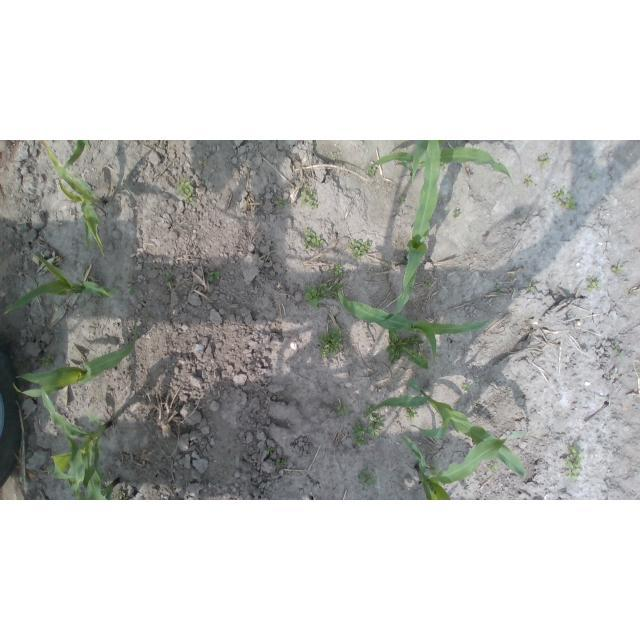Maize: (366, 380, 526, 478), (336, 289, 492, 362), (385, 140, 442, 321), (402, 432, 540, 500), (41, 387, 112, 500), (13, 333, 136, 398), (40, 140, 106, 256), (6, 252, 113, 313), (369, 147, 511, 178), (411, 140, 446, 181), (67, 476, 121, 500), (63, 141, 90, 176)
Weeds: (388, 329, 429, 370), (303, 280, 343, 308), (562, 446, 584, 483), (318, 328, 344, 359), (552, 188, 576, 210), (176, 179, 197, 204), (348, 239, 372, 260), (304, 228, 327, 249), (352, 420, 369, 447), (302, 184, 319, 210), (360, 465, 377, 491), (367, 417, 385, 437), (364, 404, 381, 421), (587, 276, 600, 293), (328, 264, 344, 277), (335, 404, 349, 417), (107, 286, 121, 298), (207, 272, 222, 283), (275, 197, 288, 209), (612, 264, 625, 276), (42, 355, 54, 368), (408, 407, 417, 421), (430, 463, 439, 475), (276, 459, 289, 467), (495, 284, 503, 297), (368, 166, 377, 176), (115, 492, 126, 500), (424, 280, 433, 289), (397, 196, 406, 205), (524, 177, 533, 186), (528, 284, 537, 292), (461, 385, 471, 392), (128, 285, 136, 293), (165, 273, 173, 281), (515, 209, 522, 218), (628, 291, 636, 298), (542, 156, 549, 164), (592, 170, 597, 181), (440, 162, 448, 168), (203, 176, 209, 183), (267, 445, 272, 453), (488, 466, 496, 471), (615, 347, 620, 355), (453, 211, 459, 217), (50, 486, 57, 491), (72, 492, 76, 497)
